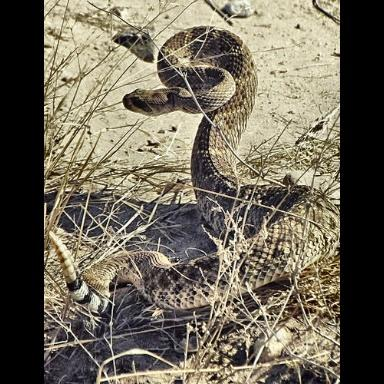snake: (46, 17, 347, 319)
